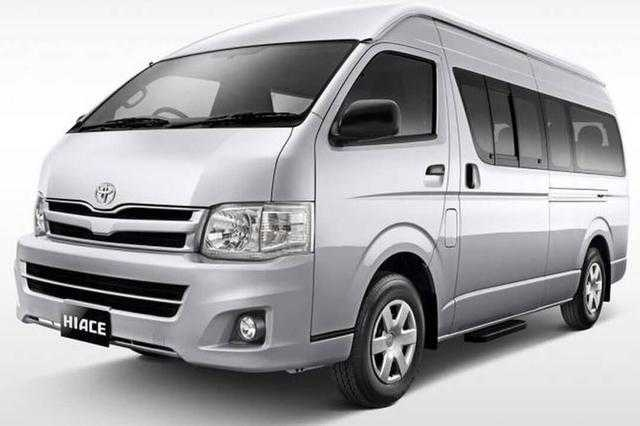van: (12, 2, 629, 408)
